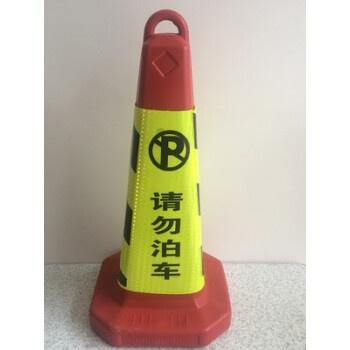cone_barrel: (93, 19, 226, 342)
